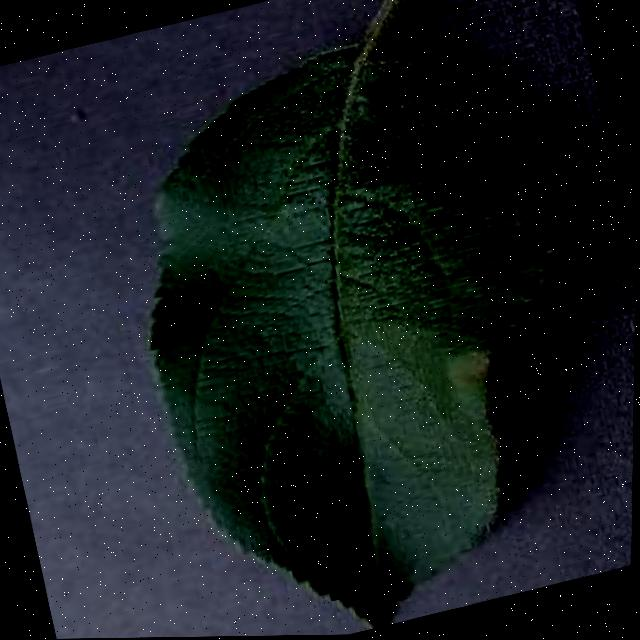healthy: (53, 0, 640, 639)
